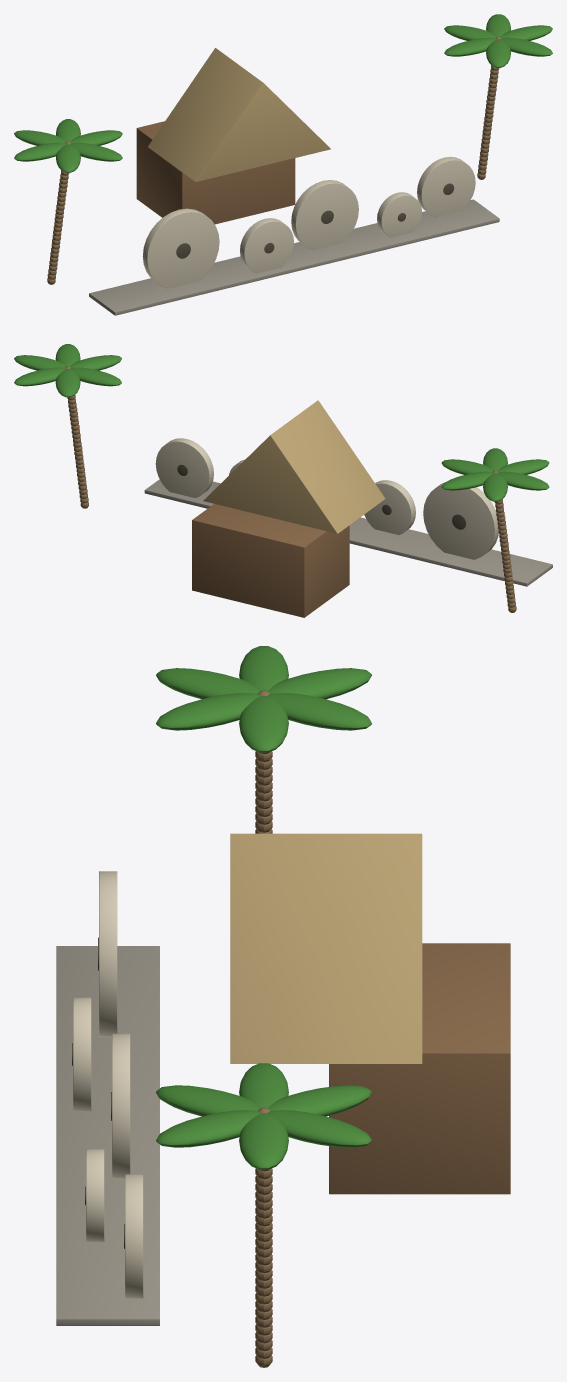
File: marco_yap.glb
The picture shows the model from 3 angles, top to bottom: view 1: azimuth 30°, elevation 25°; view 2: azimuth 150°, elevation 25°; view 3: azimuth 270°, elevation 25°; orthographic projection. The views are drawn at different scales.
Parts seen in each view (by area): view 1: marco_yap; view 2: marco_yap; view 3: marco_yap.
Part boxes in pixels (x1,y1,x2,y2): marco_yap: (14,14,552,315); marco_yap: (14,344,552,617); marco_yap: (56,646,510,1367).
Size of the model in its own units: 47.42 by 13.34 by 17.5.
